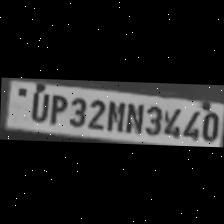0: (198, 107, 218, 141)
2: (86, 96, 106, 130)
3: (65, 92, 85, 126), (142, 101, 162, 135)
4: (180, 104, 199, 139), (162, 103, 180, 137)
M: (105, 97, 123, 131)
N: (121, 99, 141, 134)
P: (46, 91, 66, 125)
U: (26, 88, 48, 122)
